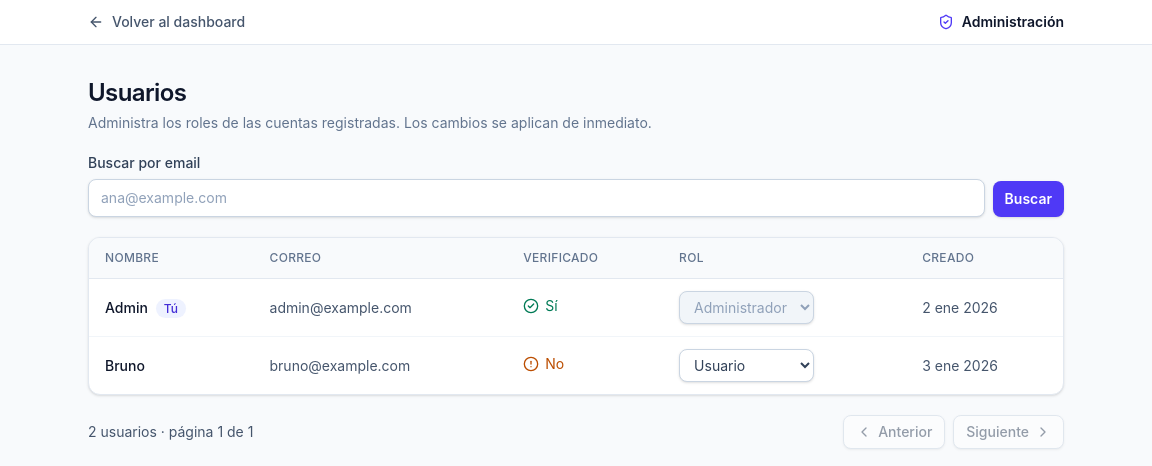
Scenario: AdminUsersPage › filtra por email y envía el valor en la query
Expected: the text "bruno@example.com" is shown, [254,336,507,394]
In the search field labelled "Buscar por email": (536, 198) [88,179,985,217], type "  bruno  "
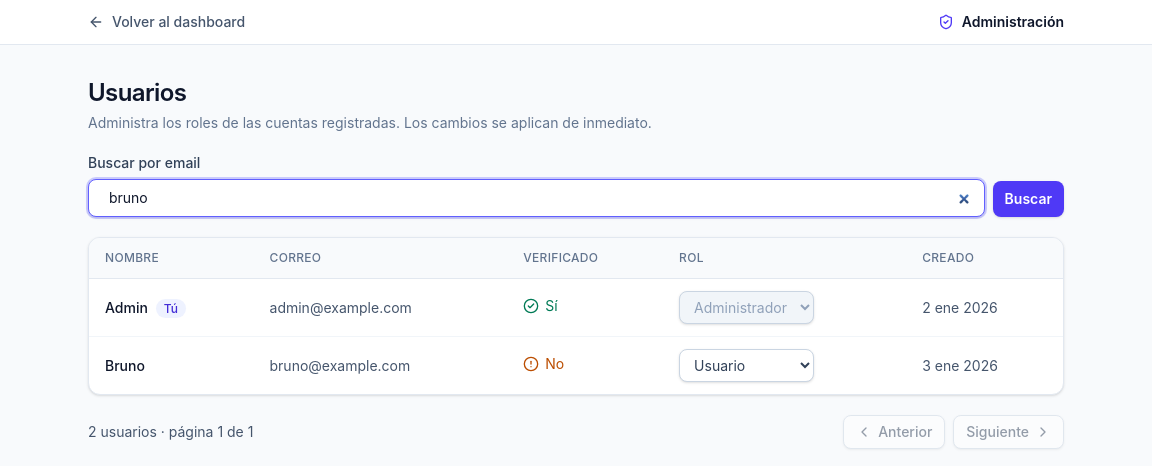
Click the button "Buscar": (1028, 199) [993,181,1064,217]
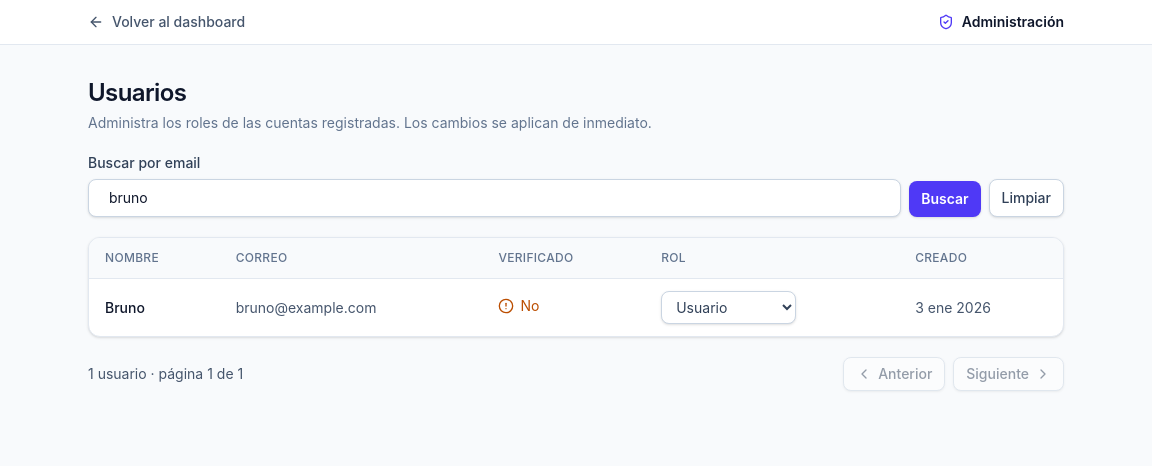
Expected: the text "bruno@example.com" is shown, [220,279,482,336]
Result: the text "admin@example.com" is gone
